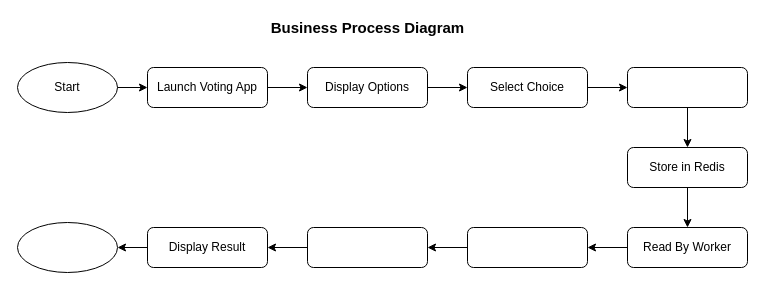
Some shapes in this 765 by 290 pixel diagram are drawn without their labels. The centre of each missing label's shape, as x and y in pixels:
"Cast Vote" goes at (687,87).
"Finish" goes at (67,247).
"Result read by voting app" goes at (367,247).
"Store votes in Postgre" goes at (527,247).
